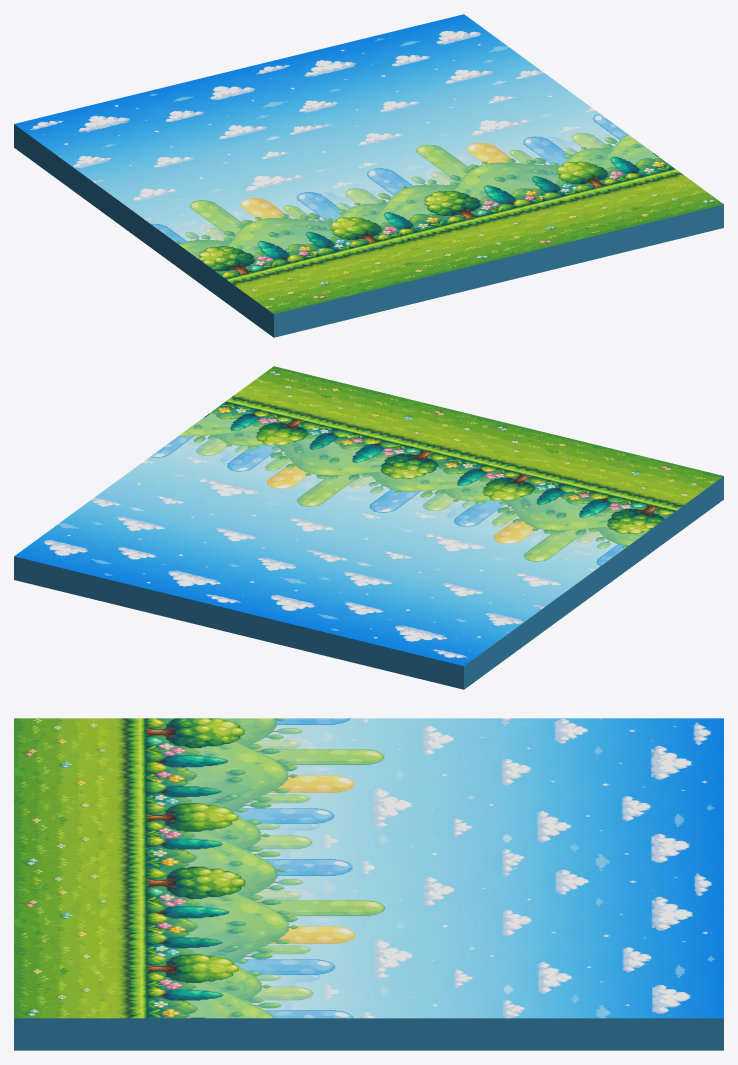
Rendered from Map.fbx.
The picture shows the model from 3 angles, top to bottom: view 1: azimuth 30°, elevation 25°; view 2: azimuth 150°, elevation 25°; view 3: azimuth 270°, elevation 25°; orthographic projection. The views are drawn at different scales.
Parts seen in each view (by area): view 1: pCube2; view 2: pCube2; view 3: pCube2.
Part boxes in pixels (<box>): pCube2: <box>14,14,723,337</box>; pCube2: <box>14,366,723,689</box>; pCube2: <box>14,718,723,1050</box>.
Bounding box in the file's own units: 20 × 1 × 20.
Materials: 1 (1 with a texture image).
